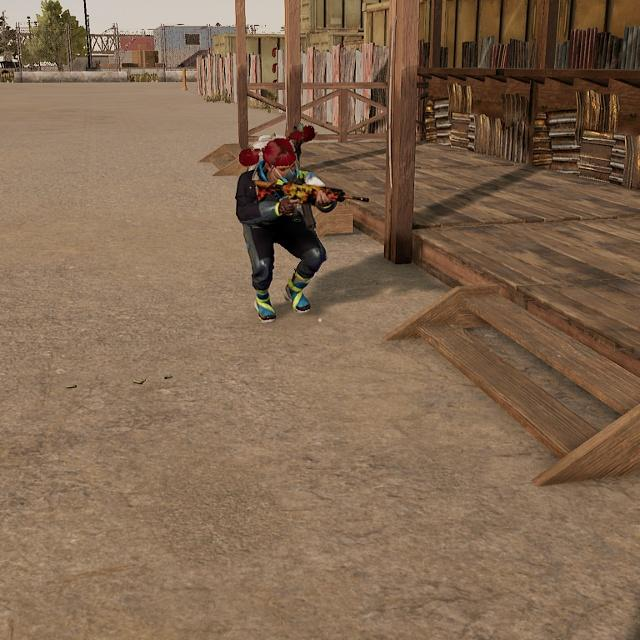head: (258, 136, 305, 188)
people: (228, 132, 340, 326)
